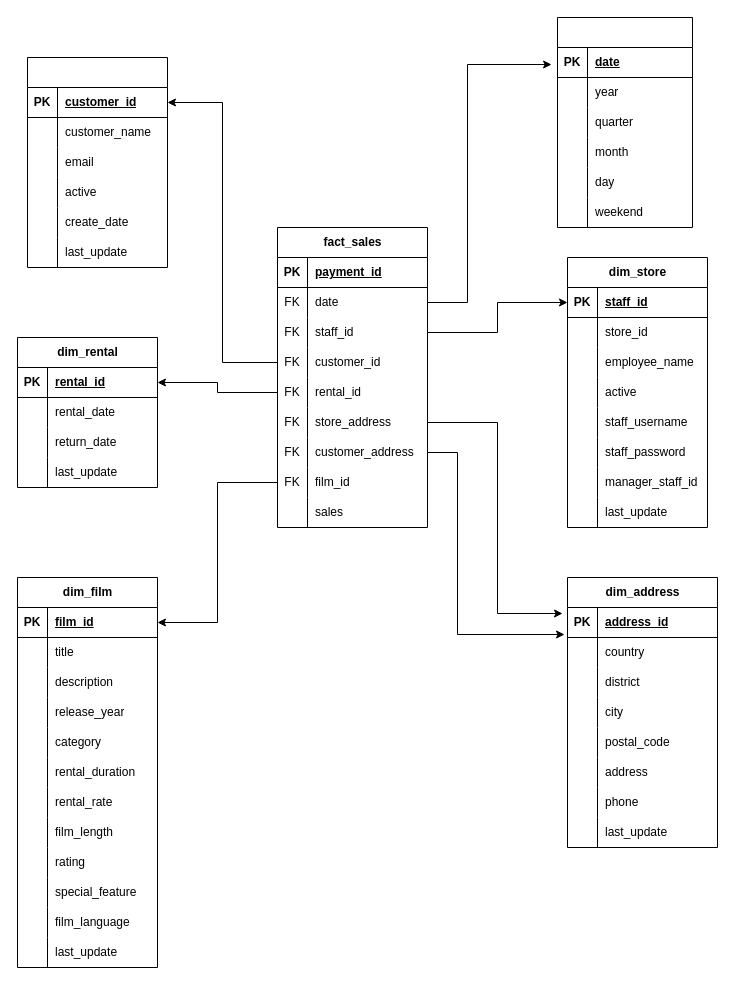
The diagram is 735 pixels wide and 985 high, and some of its shapes have lost their labels. Here are the shapes that lost their labels. From the top down, the box of each, then its label:
(556, 16, 692, 228): dim_date
(26, 56, 168, 268): dim_customer
